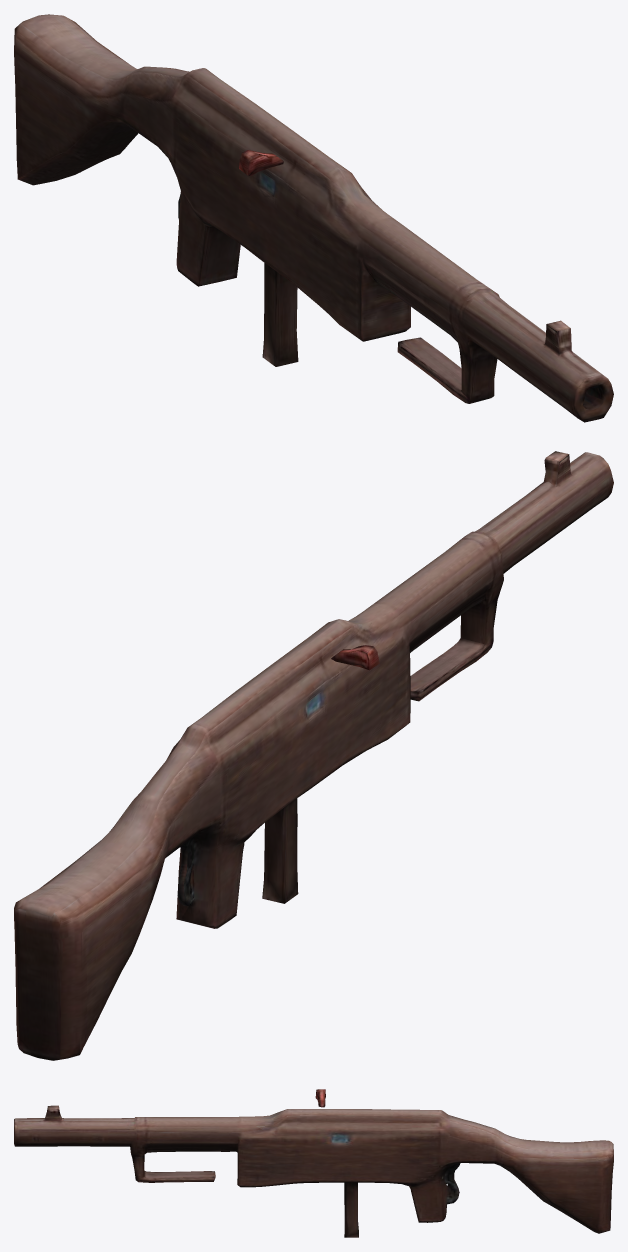
Rendered from gun_shotgun.glb.
The picture shows the model from 3 angles, top to bottom: view 1: azimuth 30°, elevation 25°; view 2: azimuth 150°, elevation 25°; view 3: azimuth 270°, elevation 25°; orthographic projection. The views are drawn at different scales.
Parts seen in each view (by area): view 1: gun_shotgun; view 2: gun_shotgun; view 3: gun_shotgun.
Part boxes in pixels (x1=…): gun_shotgun: x1=14, y1=14, x2=613, y2=422; gun_shotgun: x1=14, y1=451, x2=613, y2=1060; gun_shotgun: x1=14, y1=1089, x2=613, y2=1237.
Size of the model in its own units: 0.1024 by 0.2389 by 1.
Materials: 1 (1 with a texture image).
